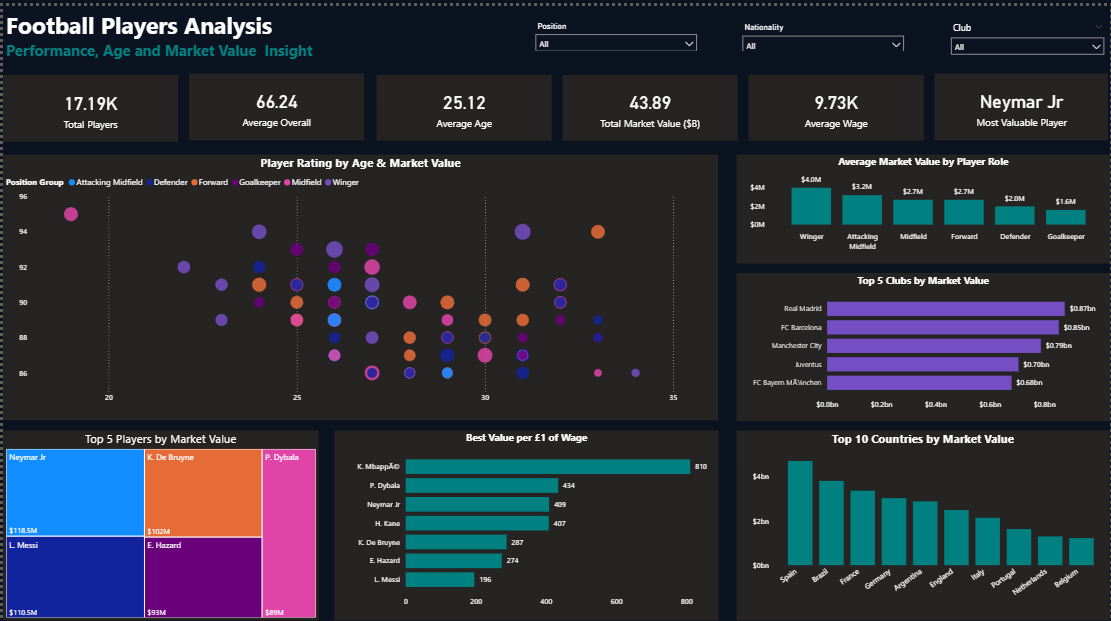

What the dashboard file says about the page in this screenshot:
{"tool":"powerbi","page":{"name":"Page 1","canvas":[1800,1000],"ordinal":0},"visuals":[{"type":"textbox","box":[0,0,640,93.3],"z":0},{"type":"slicer","fields":{"Values":["Table1.Position"]},"box":[855.6,20,282.2,53.3],"z":1000},{"type":"slicer","fields":{"Values":["Table1.Club"]},"box":[1531.1,20,268.9,73.3],"z":2000},{"type":"slicer","fields":{"Values":["Table1.Nationality"]},"box":[1193.3,22.2,282.2,51.1],"z":3000},{"type":"card","fields":{"Values":["Count(Table1.Name)"]},"box":[0,111.1,284.4,108.9],"z":4000},{"type":"card","fields":{"Values":["Avg(Table1.Overall)"]},"box":[303.1,108.9,284.4,108.9],"z":5000},{"type":"card","fields":{"Values":["Avg(Table1.Age)"]},"box":[606.2,111.1,284.4,106.7],"z":6000},{"type":"card","fields":{"Values":["Table1.Total Market Value (B)"]},"box":[909.3,111.1,284.4,106.7],"z":7000},{"type":"card","fields":{"Values":["Avg(Table1.New_wage)"]},"box":[1212.4,111.1,284.4,106.7],"z":8000},{"type":"card","fields":{"Values":["Table1.Most Valuable Player"]},"box":[1515.6,108.9,282.2,108.9],"z":9000},{"type":"columnChart","title":"Average Market Value by Player Role","fields":{"Y":["Avg(Table1.New_Value)"],"Category":["Table1.Position Group"]},"box":[1191.9,240.6,607.2,177.7],"z":10000},{"type":"clusteredBarChart","title":"Top 5 Clubs by Market Value","fields":{"Category":["Table1.Club"],"Y":["Sum(Table1.New_Value)"]},"box":[1191.9,434,607.2,240.6],"z":11000},{"type":"treemap","title":"Top 5 Players by Market Value","fields":{"Group":["Table1.Name"],"Values":["Sum(Table1.New_Value)"]},"box":[0,690.6,513.4,309],"z":12000},{"type":"barChart","title":"Best Value per £1 of Wage","fields":{"Category":["Table1.Name"],"Y":["Sum(Table1.Value per Wage)"]},"box":[538.4,690.6,624.7,309],"z":13000},{"type":"scatterChart","title":"Player Rating by Age & Market Value","fields":{"X":["Table1.Age"],"Size":["Sum(Table1.New_Value)"],"Series":["Table1.Position Group"],"Y":["Table1.Potential"]},"box":[0,240.6,1162.7,431.8],"z":14000},{"type":"clusteredColumnChart","title":"Top 10 Countries by Market Value","fields":{"Category":["Table1.Nationality"],"Y":["Sum(Table1.New_Value)"]},"box":[1192.7,690.6,606.6,309],"z":15000}]}

Visuals, with their boxes in screenshot pixels (x1, y1, x2, y2), scaled from the page's 1800x1000 canvas onto the 1111x621 screenshot:
textbox: (0,0,395,58)
slicer - Table1.Position: (528,12,702,46)
slicer - Table1.Club: (945,12,1110,58)
slicer - Table1.Nationality: (737,14,911,46)
card - Count(Table1.Name): (0,69,176,137)
card - Avg(Table1.Overall): (187,68,363,135)
card - Avg(Table1.Age): (374,69,550,135)
card - Table1.Total Market Value (B): (561,69,737,135)
card - Avg(Table1.New_wage): (748,69,924,135)
card - Table1.Most Valuable Player: (935,68,1110,135)
"Average Market Value by Player Role" columnChart: (736,149,1110,260)
"Top 5 Clubs by Market Value" clusteredBarChart: (736,270,1110,419)
"Top 5 Players by Market Value" treemap: (0,429,317,620)
"Best Value per £1 of Wage" barChart: (332,429,718,620)
"Player Rating by Age & Market Value" scatterChart: (0,149,718,418)
"Top 10 Countries by Market Value" clusteredColumnChart: (736,429,1110,620)
